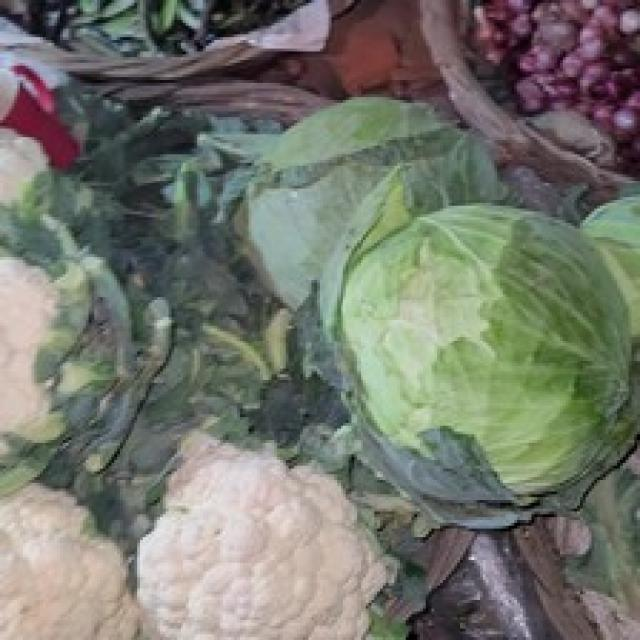Cabbage: (326, 192, 637, 517)
